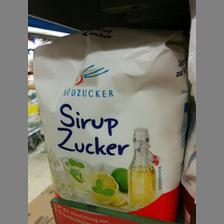Zucker: (32, 25, 188, 223)
